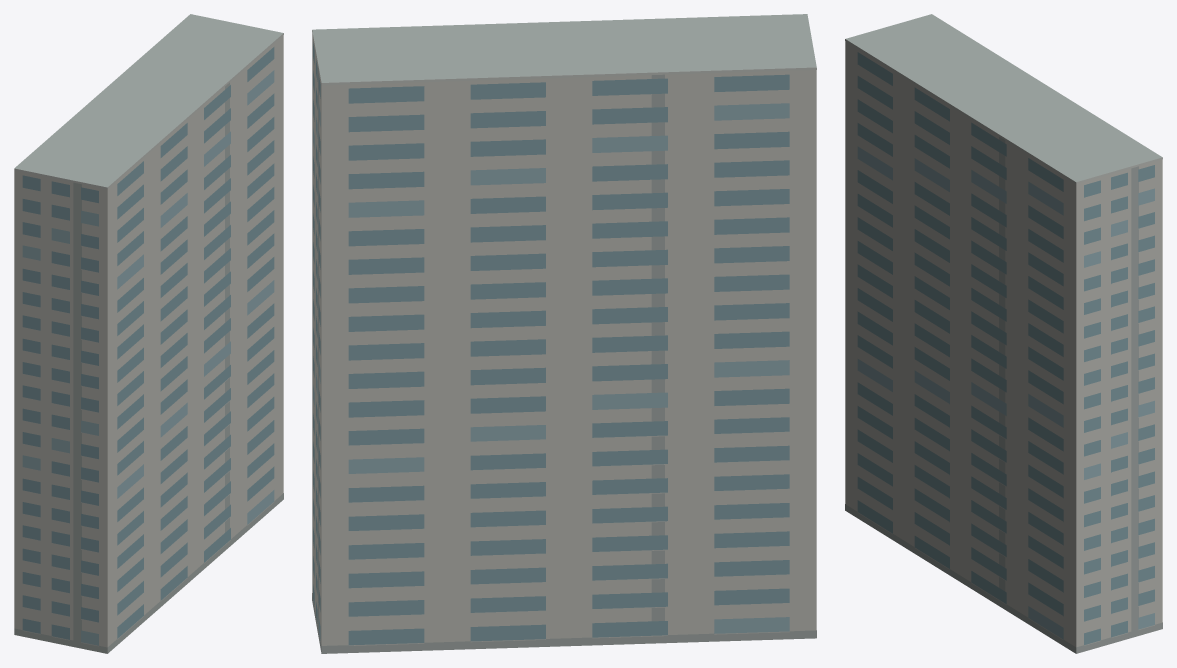
The model's file is residential-fc14a36a-29f4-47f9-b177-51459e72bcd4.glb.
3 renders of one model, left to right at view 1: azimuth 30°, elevation 25°; view 2: azimuth 150°, elevation 25°; view 3: azimuth 270°, elevation 25°, orthographic. The views are drawn at different scales.
Parts seen in each view (by area): view 1: residential-fc14a36a-29f4-47f9-b177-51459e72bcd4.tmp; view 2: residential-fc14a36a-29f4-47f9-b177-51459e72bcd4.tmp; view 3: residential-fc14a36a-29f4-47f9-b177-51459e72bcd4.tmp.
Boxes of the visible parts, x1,y1,x2,y2 form: residential-fc14a36a-29f4-47f9-b177-51459e72bcd4.tmp: (14,14,283,653); residential-fc14a36a-29f4-47f9-b177-51459e72bcd4.tmp: (312,14,816,653); residential-fc14a36a-29f4-47f9-b177-51459e72bcd4.tmp: (845,14,1162,653).
Size of the model in its own units: 42.85 by 56 by 34.19.
